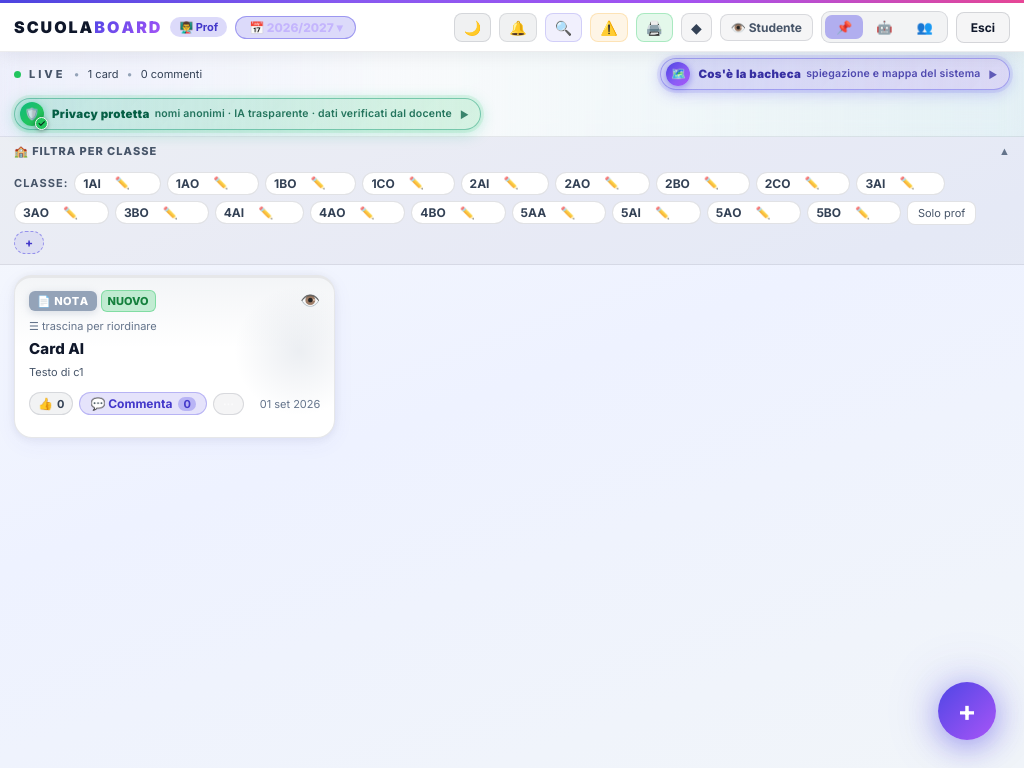
it: 403 del Worker AI: il toast mostra la causa (hint) › origine non autorizzata → messaggio con hint del worker
Step 1. Click the text "Card AI" → x=57, y=348, box [29,338,84,358]
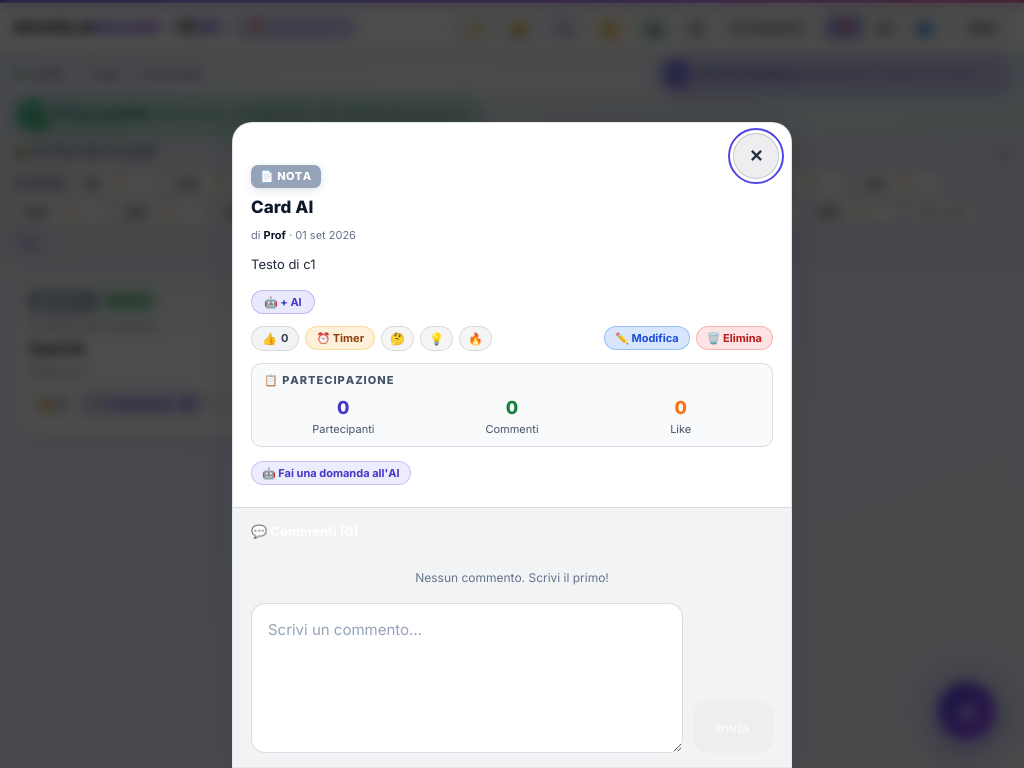
# Avvia l'analisi AI: il 403 deve trasformarsi in un messaggio leggibile
Step 2. Click the button "🤖 + AI" → x=283, y=302, box [251,290,315,314]
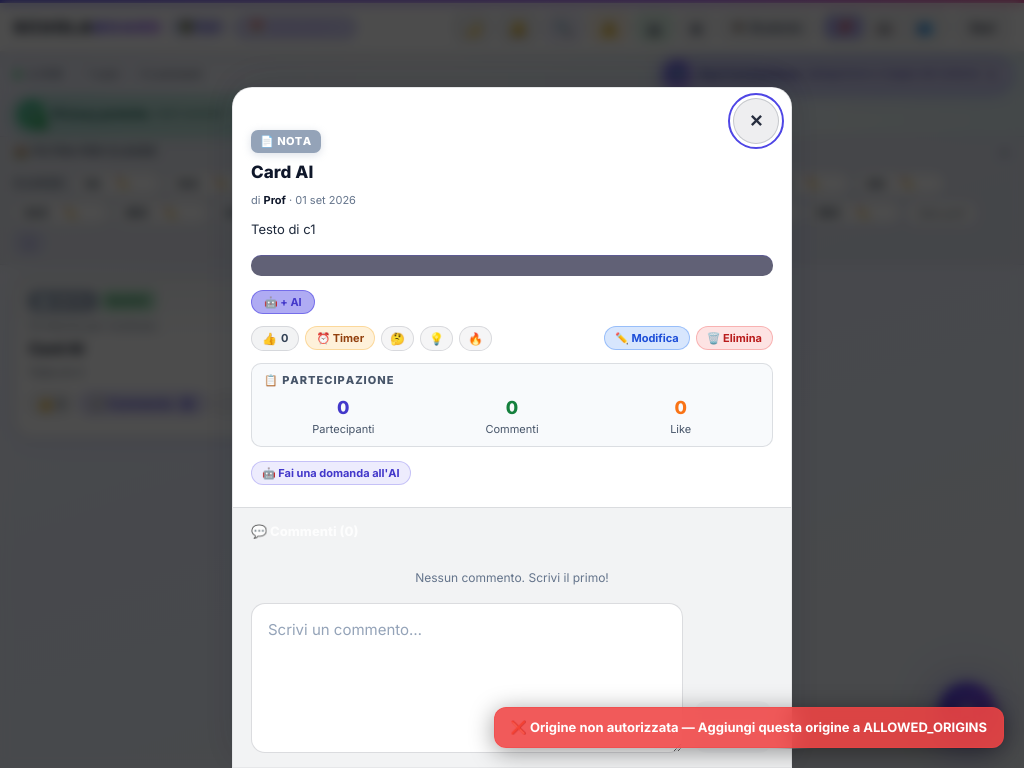
Expected: the text "ALLOWED_ORIGINS" is shown, [530,718,987,734]
